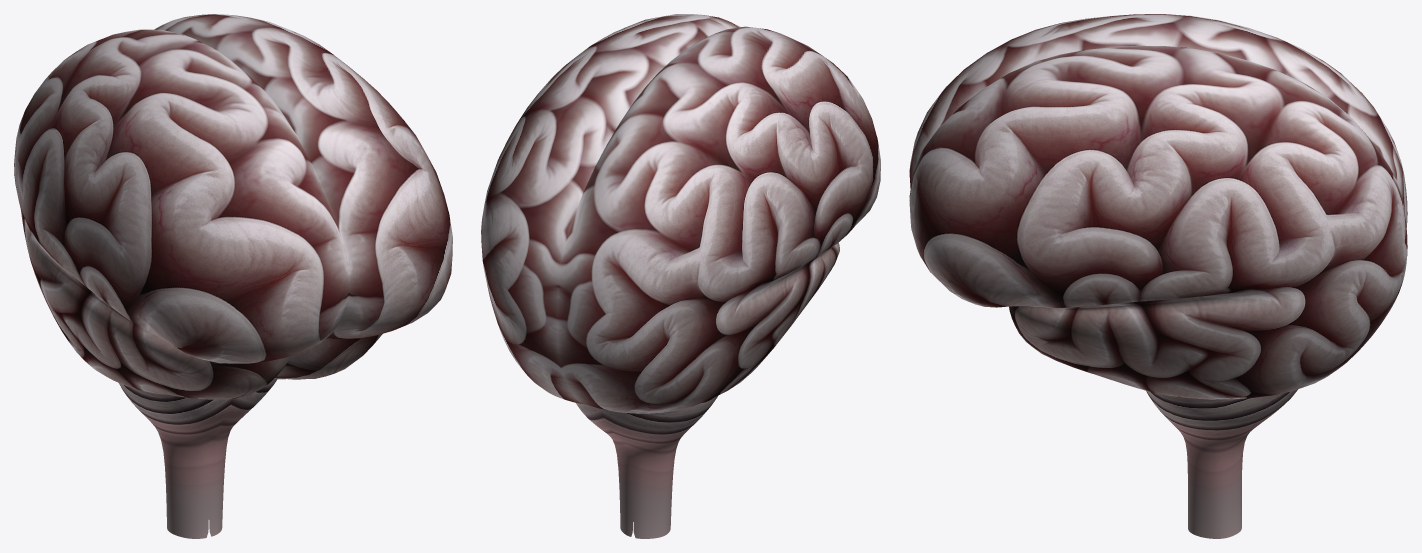
Rendered from brainModel1High.glb.
3 renders of one model, left to right at view 1: azimuth 30°, elevation 25°; view 2: azimuth 150°, elevation 25°; view 3: azimuth 270°, elevation 25°, orthographic. The views are drawn at different scales.
Visible parts, largest first — view 1: Symmetry; view 2: Symmetry; view 3: Symmetry.
Part boxes in pixels (box(x1,y1,x2,y2)): Symmetry: box(14, 14, 452, 538); Symmetry: box(481, 14, 880, 538); Symmetry: box(909, 14, 1407, 538).
Size of the model in its own units: 2.58 by 3.93 by 3.63.
1 material, 1 textured.
